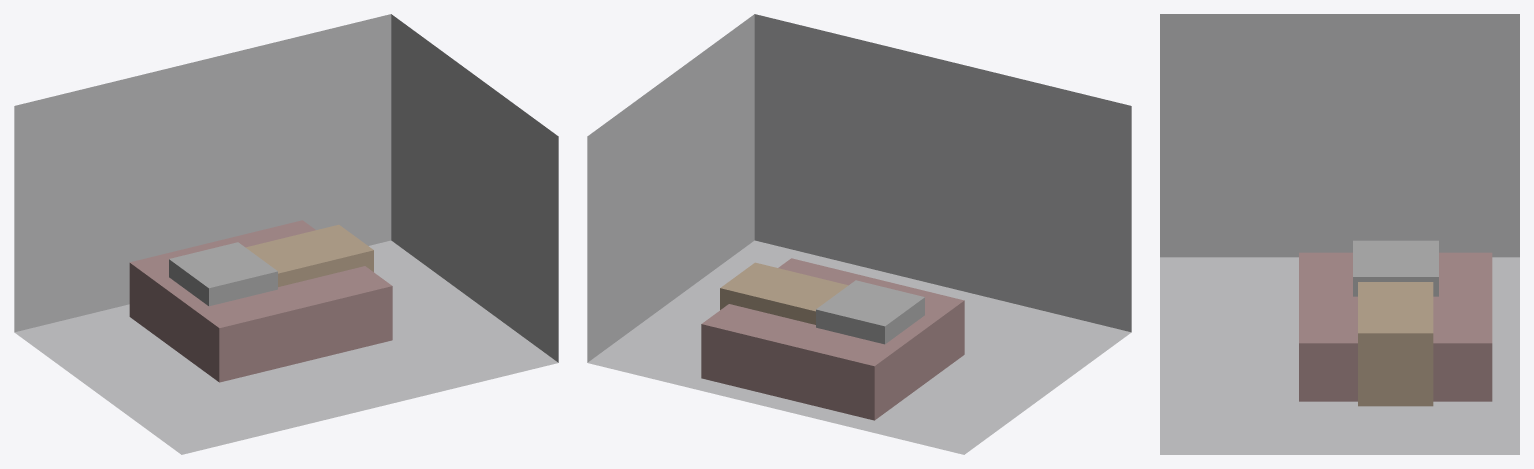
The model's file is optimised_layout.glb.
3 renders of one model, left to right at view 1: azimuth 30°, elevation 25°; view 2: azimuth 150°, elevation 25°; view 3: azimuth 270°, elevation 25°, orthographic. The views are drawn at different scales.
Parts seen in each view (by area): view 1: room, bed, wardrobe, desk; view 2: room, bed, wardrobe, desk; view 3: room, bed, desk, wardrobe.
Boxes of the visible parts, box(x1,y1,x2,y2) form: room: box(14, 14, 558, 454); bed: box(129, 220, 392, 382); wardrobe: box(169, 242, 277, 306); desk: box(245, 224, 373, 286); room: box(587, 14, 1131, 454); bed: box(701, 258, 964, 420); wardrobe: box(816, 280, 924, 344); desk: box(720, 262, 848, 324); room: box(1160, 14, 1519, 454); bed: box(1299, 252, 1492, 401); desk: box(1358, 282, 1433, 406); wardrobe: box(1353, 240, 1438, 296).
Size of the model in its own units: 4.36 by 2.5 by 3.35.
